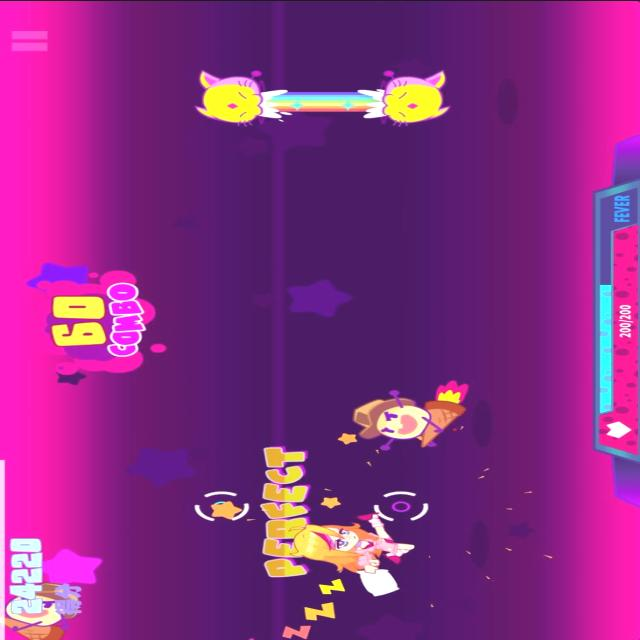qiu: (348, 378, 476, 452)
shuangya: (189, 64, 457, 128)
